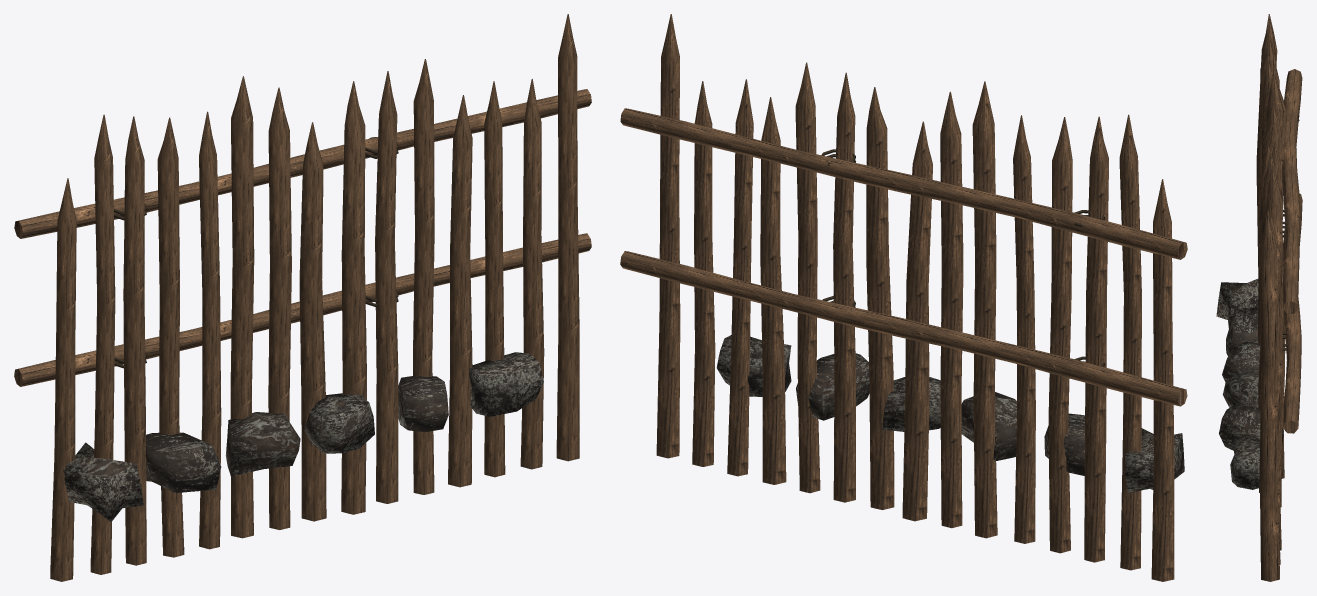
Rendered from SM_Bld_North_Fence.gltf.
The picture shows the model from 3 angles, left to right: view 1: azimuth 30°, elevation 25°; view 2: azimuth 150°, elevation 25°; view 3: azimuth 270°, elevation 25°; orthographic projection. The views are drawn at different scales.
Visible parts, largest first — view 1: SM_Bld_North_Fence; view 2: SM_Bld_North_Fence; view 3: SM_Bld_North_Fence.
Part boxes in pixels (left/top/right/bottom): SM_Bld_North_Fence: left=14, top=14, right=591, bottom=581; SM_Bld_North_Fence: left=620, top=14, right=1187, bottom=581; SM_Bld_North_Fence: left=1216, top=14, right=1302, bottom=581.
Size of the model in its own units: 4.2 by 3.23 by 0.67.
3 materials, 3 textured.
